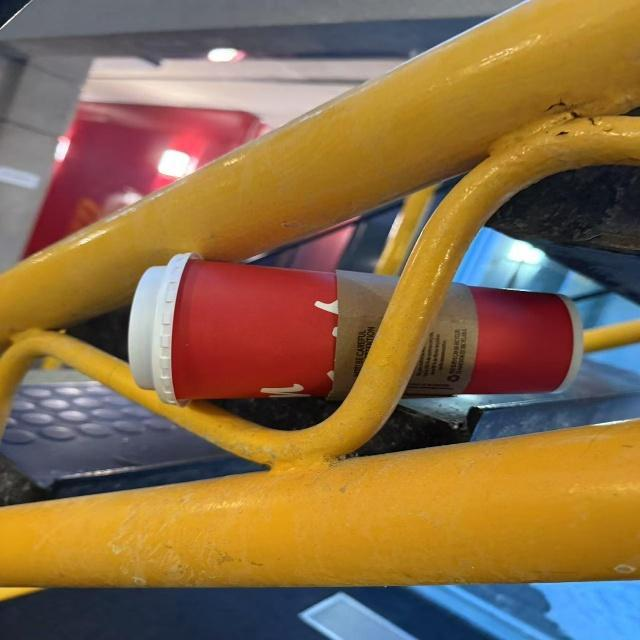timmies: (123, 249, 590, 410)
